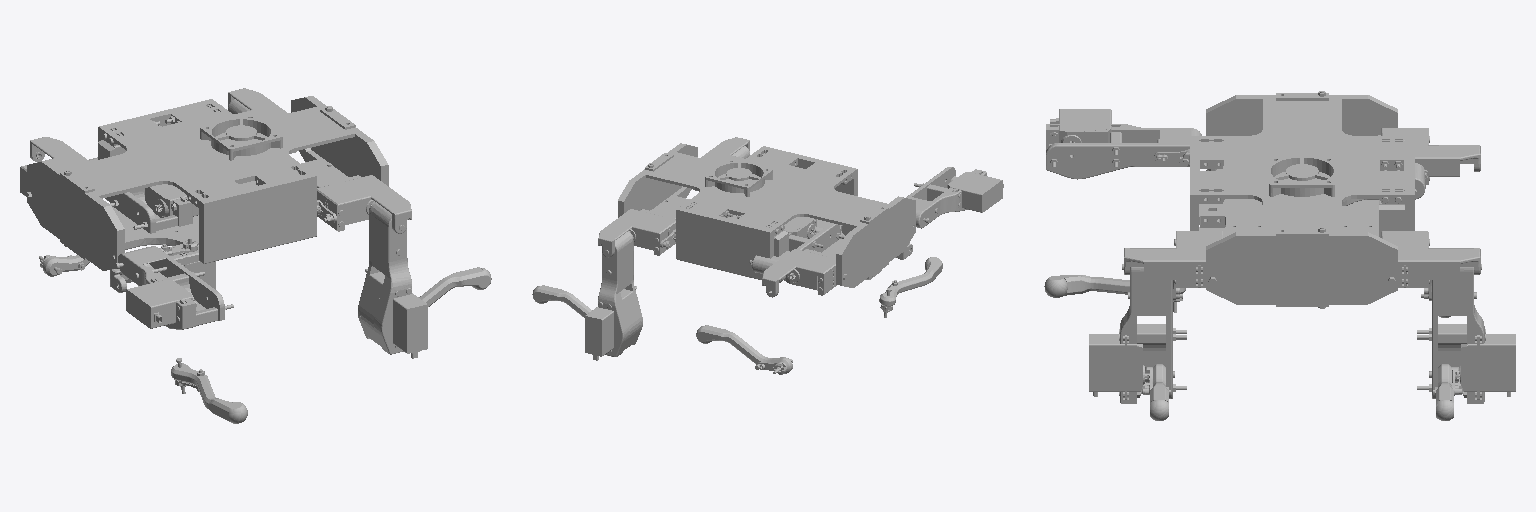
--- Render facts (derived) ---
3 views of the same robot in one strip: view 1: azimuth 30°, elevation 25°; view 2: azimuth 150°, elevation 25°; view 3: azimuth 270°, elevation 25° (orthographic).
Model urd_robot_cuadrupedo_v5 with 14 links and 13 joints (12 revolute, 1 fixed), rooted at base_link, posed joints at zero except 4 at the middle of their limits (Motor9 = -1.71, Motor10 = -1.71, Motor11 = -1.71, Motor12 = -1.71).
Links seen in each view (by area): view 1: base_robot, eslabon_femur_derecha_delantera, eslabon_femur_derecha_trazera, eslabon_coxa_derecha_delantera, eslabon_femur_izquierda_trazera, eslabon_tibia_derecha_trazera, eslabon_coxa_derecha_trazera, eslabon_coxa_izquierda_trasera, eslabon_tibia_derecha_delantera, eslabon_coxa_izquierda_delantera, eslabon_tibia_izquierda_trasera; view 2: base_robot, eslabon_femur_izquierda_delantera, eslabon_femur_derecha_trazera, eslabon_coxa_izquierda_trasera, eslabon_coxa_izquierda_delantera, eslabon_femur_izquierda_trazera, eslabon_tibia_izquierda_trasera, eslabon_tibia_derecha_trazera, eslabon_tibia_izquierda_delantera, eslabon_coxa_derecha_delantera; view 3: base_robot, eslabon_femur_derecha_trazera, eslabon_femur_derecha_delantera, eslabon_femur_izquierda_delantera, eslabon_coxa_izquierda_delantera, eslabon_coxa_derecha_delantera, eslabon_coxa_izquierda_trasera, eslabon_tibia_derecha_trazera, eslabon_tibia_derecha_delantera, eslabon_tibia_izquierda_delantera.
Link boxes in pixels (x1,y1,x2,y2): base_robot: (27, 96, 388, 270); eslabon_femur_derecha_delantera: (358, 201, 427, 358); eslabon_femur_derecha_trazera: (115, 246, 233, 329); eslabon_coxa_derecha_delantera: (317, 175, 411, 233); eslabon_femur_izquierda_trazera: (89, 157, 198, 233); eslabon_tibia_derecha_trazera: (171, 358, 247, 423); eslabon_coxa_derecha_trazera: (110, 238, 215, 292); eslabon_coxa_izquierda_trasera: (20, 137, 89, 199); eslabon_tibia_derecha_delantera: (419, 267, 491, 306); eslabon_coxa_izquierda_delantera: (228, 88, 296, 153); eslabon_tibia_izquierda_trasera: (39, 255, 89, 276); base_robot: (618, 143, 915, 287); eslabon_femur_izquierda_delantera: (585, 231, 642, 360); eslabon_femur_derecha_trazera: (906, 167, 1003, 228); eslabon_coxa_izquierda_trasera: (762, 249, 847, 297); eslabon_coxa_izquierda_delantera: (598, 209, 675, 257); eslabon_femur_izquierda_trazera: (749, 217, 845, 273); eslabon_tibia_izquierda_trasera: (696, 325, 792, 374); eslabon_tibia_derecha_trazera: (879, 257, 942, 317); eslabon_tibia_izquierda_delantera: (532, 285, 591, 317); eslabon_coxa_derecha_delantera: (693, 137, 749, 190); base_robot: (1190, 91, 1414, 308); eslabon_femur_derecha_trazera: (1046, 109, 1201, 179); eslabon_femur_derecha_delantera: (1089, 264, 1186, 403); eslabon_femur_izquierda_delantera: (1417, 264, 1515, 403); eslabon_coxa_izquierda_delantera: (1381, 231, 1480, 287); eslabon_coxa_derecha_delantera: (1124, 231, 1222, 287); eslabon_coxa_izquierda_trasera: (1378, 128, 1480, 184); eslabon_tibia_derecha_trazera: (1044, 275, 1185, 312); eslabon_tibia_derecha_delantera: (1142, 364, 1174, 420); eslabon_tibia_izquierda_delantera: (1429, 364, 1461, 420).
Size in the robot's own frame: 0.3598 by 0.3565 by 0.1689 metres.
Meshes: 13 distinct files referenced, 13 mesh visuals loaded (13 binary STL).

URDF robot description (urd_robot_cuadrupedo_v5):
<?xml version="1.0"?>
<!-- This URDF was automatically created by SolidWorks to URDF Exporter! Originally created by Stephen Brawner ([email redacted]) 
     Commit Version: 1.6.0-4-g7f85cfe  Build Version: 1.6.7995.38578
     For more information, please see http://wiki.ros.org/sw_urdf_exporter -->
<robot
  name="urd_robot_cuadrupedo_v5">
  <!-- Added compatibility root frame for RViz/tools that expect `base_link` -->
  <link name="base_link" />
  <joint name="base_link_to_base_robot" type="fixed">
    <parent link="base_link" />
    <child link="base_robot" />
    <origin xyz="0 0 0" rpy="0 0 0" />
  </joint>
  <link
    name="base_robot">
    <inertial>
      <origin
        xyz="0.00028092 -1.8375E-06 0.024004"
        rpy="0 0 0" />
      <mass
        value="0.62602" />
      <inertia
        ixx="0.0011232"
        ixy="9.7755E-08"
        ixz="6.3465E-08"
        iyy="0.0011039"
        iyz="-4.2277E-09"
        izz="0.0021064" />
    </inertial>
    <visual>
      <origin
        xyz="0 0 0"
        rpy="0 0 0" />
      <geometry>
        <mesh
          filename="model://urd_robot_cuadrupedo_v5/meshes/base_robot.STL" />
      </geometry>
      <material
        name="">
        <color
          rgba="0.75294 0.75294 0.75294 1" />
      </material>
    </visual>
    <collision>
      <origin
        xyz="0 0 0"
        rpy="0 0 0" />
      <geometry>
        <mesh
          filename="package://gazebo_simulation/models/urd_robot_cuadrupedo_v5/meshes/base_robot.STL" />
      </geometry>
    </collision>
  </link>
  <link
    name="eslabon_coxa_derecha_delantera">
    <inertial>
      <origin
        xyz="0.035369 -0.0090269 0.001623"
        rpy="0 0 0" />
      <mass
        value="0.076" />
      <inertia
        ixx="1.7467E-05"
        ixy="2.4535E-06"
        ixz="-3.2608E-07"
        iyy="1.4748E-05"
        iyz="4.9519E-07"
        izz="2.7861E-05" />
    </inertial>
    <visual>
      <origin
        xyz="0 0 0"
        rpy="0 0 0" />
      <geometry>
        <mesh
          filename="model://urd_robot_cuadrupedo_v5/meshes/eslabon_coxa_derecha_delantera.STL" />
      </geometry>
      <material
        name="">
        <color
          rgba="0.75294 0.75294 0.75294 1" />
      </material>
    </visual>
    <collision>
      <origin
        xyz="0 0 0"
        rpy="0 0 0" />
      <geometry>
        <mesh
          filename="package://gazebo_simulation/models/urd_robot_cuadrupedo_v5/meshes/eslabon_coxa_derecha_delantera.STL" />
      </geometry>
    </collision>
  </link>
  <joint
    name="Motor1"
    type="revolute">
    <origin
      xyz="0.0556 -0.0678 0.017"
      rpy="0 0 0" />
    <parent
      link="base_robot" />
    <child
      link="eslabon_coxa_derecha_delantera" />
    <axis
      xyz="1 0 0" />
    <limit
      lower="-1.5708" upper="1.5708" effort="10" velocity="2" />
  </joint>
  <link
    name="eslabon_femur_derecha_delantera">
    <inertial>
      <origin
        xyz="-0.0024207 -0.037916 -0.062962"
        rpy="0 0 0" />
      <mass
        value="0.1022" />
      <inertia
        ixx="5.4793E-05"
        ixy="-1.9564E-07"
        ixz="-3.536E-06"
        iyy="4.8323E-05"
        iyz="-2.073E-06"
        izz="1.3118E-05" />
    </inertial>
    <visual>
      <origin
        xyz="0 0 0"
        rpy="0 0 0" />
      <geometry>
        <mesh
          filename="model://urd_robot_cuadrupedo_v5/meshes/eslabon_femur_derecha_delantera.STL" />
      </geometry>
      <material
        name="">
        <color
          rgba="0.75294 0.75294 0.75294 1" />
      </material>
    </visual>
    <collision>
      <origin
        xyz="0 0 0"
        rpy="0 0 0" />
      <geometry>
        <mesh
          filename="package://gazebo_simulation/models/urd_robot_cuadrupedo_v5/meshes/eslabon_femur_derecha_delantera.STL" />
      </geometry>
    </collision>
  </link>
  <joint
    name="Motor5"
    type="revolute">
    <origin
      xyz="0.0467 -0.0165 0.0002"
      rpy="0 0 0" />
    <parent
      link="eslabon_coxa_derecha_delantera" />
    <child
      link="eslabon_femur_derecha_delantera" />
    <axis
      xyz="0 1 0" />
    <limit
      lower="-1.885" upper="1.0472" effort="10" velocity="2" />
  </joint>
  <link
    name="eslabon_tibia_derecha_delantera">
    <inertial>
      <origin
        xyz="-0.00052387 -0.014256 -0.033591"
        rpy="0 0 0" />
      <mass
        value="0.02333" />
      <inertia
        ixx="1.0939E-05"
        ixy="3.5897E-09"
        ixz="8.1426E-07"
        iyy="1.094E-05"
        iyz="1.3416E-08"
        izz="7.9923E-07" />
    </inertial>
    <visual>
      <origin
        xyz="0 0 0"
        rpy="0 0 0" />
      <geometry>
        <mesh
          filename="model://urd_robot_cuadrupedo_v5/meshes/eslabon_tibia_derecha_delantera.STL" />
      </geometry>
      <material
        name="">
        <color
          rgba="0.75294 0.75294 0.75294 1" />
      </material>
    </visual>
    <collision>
      <origin
        xyz="0 0 0"
        rpy="0 0 0" />
      <geometry>
        <mesh
          filename="package://gazebo_simulation/models/urd_robot_cuadrupedo_v5/meshes/eslabon_tibia_derecha_delantera.STL" />
      </geometry>
    </collision>
  </link>
  <joint
    name="Motor9"
    type="revolute">
    <origin
      xyz="0 -0.0118 -0.09"
      rpy="0 0 0" />
    <parent
      link="eslabon_femur_derecha_delantera" />
    <child
      link="eslabon_tibia_derecha_delantera" />
    <axis
      xyz="0 1 0" />
    <limit
      lower="-3.0019" upper="-0.4189" effort="10" velocity="2"/>
  </joint>
  <link
    name="eslabon_coxa_derecha_trazera">
    <inertial>
      <origin
        xyz="-0.032487 -0.0090269 0.0016241"
        rpy="0 0 0" />
      <mass
        value="0.076" />
      <inertia
        ixx="1.7467E-05"
        ixy="2.4094E-06"
        ixz="-3.4746E-07"
        iyy="1.4778E-05"
        iyz="5.0366E-07"
        izz="2.7891E-05" />
    </inertial>
    <visual>
      <origin
        xyz="0 0 0"
        rpy="0 0 0" />
      <geometry>
        <mesh
          filename="package://gazebo_simulation/models/urd_robot_cuadrupedo_v5/meshes/eslabon_coxa_derecha_trazera.STL" />
      </geometry>
      <material
        name="">
        <color
          rgba="0.75294 0.75294 0.75294 1" />
      </material>
    </visual>
    <collision>
      <origin
        xyz="0 0 0"
        rpy="0 0 0" />
      <geometry>
        <mesh
          filename="package://gazebo_simulation/models/urd_robot_cuadrupedo_v5/meshes/eslabon_coxa_derecha_trazera.STL" />
      </geometry>
    </collision>
  </link>
  <joint
    name="Motor2"
    type="revolute">
    <origin
      xyz="-0.0556 -0.0678 0.017"
      rpy="0 0 0" />
    <parent
      link="base_robot" />
    <child
      link="eslabon_coxa_derecha_trazera" />
    <axis
      xyz="1 0 0" />
    <limit
      lower="-1.5708" upper="1.5708" effort="10" velocity="2" />
  </joint>
  <link
    name="eslabon_femur_derecha_trazera">
    <inertial>
      <origin
        xyz="-0.0024207 -0.037916 -0.062962"
        rpy="0 0 0" />
      <mass
        value="0.1022" />
      <inertia
        ixx="5.4793E-05"
        ixy="-1.9564E-07"
        ixz="-3.536E-06"
        iyy="4.8323E-05"
        iyz="-2.073E-06"
        izz="1.3118E-05" />
    </inertial>
    <visual>
      <origin
        xyz="0 0 0"
        rpy="0 0 0" />
      <geometry>
        <mesh
          filename="package://gazebo_simulation/models/urd_robot_cuadrupedo_v5/meshes/eslabon_femur_derecha_trazera.STL" />
      </geometry>
      <material
        name="">
        <color
          rgba="0.75294 0.75294 0.75294 1" />
      </material>
    </visual>
    <collision>
      <origin
        xyz="0 0 0"
        rpy="0 0 0" />
      <geometry>
        <mesh
          filename="package://gazebo_simulation/models/urd_robot_cuadrupedo_v5/meshes/eslabon_femur_derecha_trazera.STL" />
      </geometry>
    </collision>
  </link>
  <joint
    name="Motor6"
    type="revolute">
    <origin
      xyz="-0.0267 -0.0165 0.0002"
      rpy="0 0 0" />
    <parent
      link="eslabon_coxa_derecha_trazera" />
    <child
      link="eslabon_femur_derecha_trazera" />
    <axis
      xyz="0 1 0" />
    <limit
      lower="-1.885" upper="1.0472" effort="10" velocity="2"/>
  </joint>
  <link
    name="eslabon_tibia_derecha_trazera">
    <inertial>
      <origin
        xyz="-0.00052387 -0.014256 -0.033591"
        rpy="0 0 0" />
      <mass
        value="0.02333" />
      <inertia
        ixx="1.0939E-05"
        ixy="3.5897E-09"
        ixz="8.1426E-07"
        iyy="1.094E-05"
        iyz="1.3416E-08"
        izz="7.9923E-07" />
    </inertial>
    <visual>
      <origin
        xyz="0 0 0"
        rpy="0 0 0" />
      <geometry>
        <mesh
          filename="package://gazebo_simulation/models/urd_robot_cuadrupedo_v5/meshes/eslabon_tibia_derecha_trazera.STL" />
      </geometry>
      <material
        name="">
        <color
          rgba="0.75294 0.75294 0.75294 1" />
      </material>
    </visual>
    <collision>
      <origin
        xyz="0 0 0"
        rpy="0 0 0" />
      <geometry>
        <mesh
          filename="package://gazebo_simulation/models/urd_robot_cuadrupedo_v5/meshes/eslabon_tibia_derecha_trazera.STL" />
      </geometry>
    </collision>
  </link>
  <joint
    name="Motor10"
    type="revolute">
    <origin
      xyz="0 -0.0118 -0.09"
      rpy="0 0 0" />
    <parent
      link="eslabon_femur_derecha_trazera" />
    <child
      link="eslabon_tibia_derecha_trazera" />
    <axis
      xyz="0 1 0" />
    <limit
      lower="-3.0019" upper="-0.4189" effort="10" velocity="2" />
  </joint>
  <link
    name="eslabon_coxa_izquierda_delantera">
    <inertial>
      <origin
        xyz="0.035374 0.0090266 0.001627"
        rpy="0 0 0" />
      <mass
        value="0.075981" />
      <inertia
        ixx="1.746E-05"
        ixy="-2.4484E-06"
        ixz="-3.1785E-07"
        iyy="1.4729E-05"
        iyz="-5.0055E-07"
        izz="2.7844E-05" />
    </inertial>
    <visual>
      <origin
        xyz="0 0 0"
        rpy="0 0 0" />
      <geometry>
        <mesh
          filename="package://gazebo_simulation/models/urd_robot_cuadrupedo_v5/meshes/eslabon_coxa_izquierda_delantera.STL" />
      </geometry>
      <material
        name="">
        <color
          rgba="0.75294 0.75294 0.75294 1" />
      </material>
    </visual>
    <collision>
      <origin
        xyz="0 0 0"
        rpy="0 0 0" />
      <geometry>
        <mesh
          filename="package://gazebo_simulation/models/urd_robot_cuadrupedo_v5/meshes/eslabon_coxa_izquierda_delantera.STL" />
      </geometry>
    </collision>
  </link>
  <joint
    name="Motor3"
    type="revolute">
    <origin
      xyz="0.0556 0.0678 0.017"
      rpy="0 0 0" />
    <parent
      link="base_robot" />
    <child
      link="eslabon_coxa_izquierda_delantera" />
    <axis
      xyz="1 0 0" />
    <limit
      lower="-1.5708" upper="1.5708" effort="10" velocity="2"/>
  </joint>
  <link
    name="eslabon_femur_izquierda_delantera">
    <inertial>
      <origin
        xyz="-0.0024214 0.037916 -0.062962"
        rpy="0 0 0" />
      <mass
        value="0.1022" />
      <inertia
        ixx="5.4793E-05"
        ixy="1.9572E-07"
        ixz="-3.5447E-06"
        iyy="4.8323E-05"
        iyz="2.073E-06"
        izz="1.3118E-05" />
    </inertial>
    <visual>
      <origin
        xyz="0 0 0"
        rpy="0 0 0" />
      <geometry>
        <mesh
          filename="package://gazebo_simulation/models/urd_robot_cuadrupedo_v5/meshes/eslabon_femur_izquierda_delantera.STL" />
      </geometry>
      <material
        name="">
        <color
          rgba="0.75294 0.75294 0.75294 1" />
      </material>
    </visual>
    <collision>
      <origin
        xyz="0 0 0"
        rpy="0 0 0" />
      <geometry>
        <mesh
          filename="package://gazebo_simulation/models/urd_robot_cuadrupedo_v5/meshes/eslabon_femur_izquierda_delantera.STL" />
      </geometry>
    </collision>
  </link>
  <joint
    name="Motor7"
    type="revolute">
    <origin
      xyz="0.0467 0.0165 0.0002"
      rpy="0 0 0" />
    <parent
      link="eslabon_coxa_izquierda_delantera" />
    <child
      link="eslabon_femur_izquierda_delantera" />
    <axis
      xyz="0 1 0" />
    <limit
      lower="-1.885" upper="1.0472" effort="10" velocity="2" />
  </joint>
  <link
    name="eslabon_tibia_izquierda_delantera">
    <inertial>
      <origin
        xyz="-0.00052045 0.014256 -0.033592"
        rpy="0 0 0" />
      <mass
        value="0.02333" />
      <inertia
        ixx="1.0943E-05"
        ixy="-3.601E-09"
        ixz="8.2159E-07"
        iyy="1.094E-05"
        iyz="-1.3419E-08"
        izz="7.95E-07" />
    </inertial>
    <visual>
      <origin
        xyz="0 0 0"
        rpy="0 0 0" />
      <geometry>
        <mesh
          filename="package://gazebo_simulation/models/urd_robot_cuadrupedo_v5/meshes/eslabon_tibia_izquierda_delantera.STL" />
      </geometry>
      <material
        name="">
        <color
          rgba="0.75294 0.75294 0.75294 1" />
      </material>
    </visual>
    <collision>
      <origin
        xyz="0 0 0"
        rpy="0 0 0" />
      <geometry>
        <mesh
          filename="package://gazebo_simulation/models/urd_robot_cuadrupedo_v5/meshes/eslabon_tibia_izquierda_delantera.STL" />
      </geometry>
    </collision>
  </link>
  <joint
    name="Motor11"
    type="revolute">
    <origin
      xyz="0 0.0118 -0.09"
      rpy="0 0 0" />
    <parent
      link="eslabon_femur_izquierda_delantera" />
    <child
      link="eslabon_tibia_izquierda_delantera" />
    <axis
      xyz="0 1 0" />
    <limit
      lower="-3.0019" upper="-0.4189" effort="10" velocity="2" />
  </joint>
  <link
    name="eslabon_coxa_izquierda_trasera">
    <inertial>
      <origin
        xyz="-0.032487 0.0090269 0.0016228"
        rpy="0 0 0" />
      <mass
        value="0.076" />
      <inertia
        ixx="1.7466E-05"
        ixy="-2.4094E-06"
        ixz="-3.4767E-07"
        iyy="1.4778E-05"
        iyz="-4.9508E-07"
        izz="2.7891E-05" />
    </inertial>
    <visual>
      <origin
        xyz="0 0 0"
        rpy="0 0 0" />
      <geometry>
        <mesh
          filename="package://gazebo_simulation/models/urd_robot_cuadrupedo_v5/meshes/eslabon_coxa_izquierda_trasera.STL" />
      </geometry>
      <material
        name="">
        <color
          rgba="0.75294 0.75294 0.75294 1" />
      </material>
    </visual>
    <collision>
      <origin
        xyz="0 0 0"
        rpy="0 0 0" />
      <geometry>
        <mesh
          filename="package://gazebo_simulation/models/urd_robot_cuadrupedo_v5/meshes/eslabon_coxa_izquierda_trasera.STL" />
      </geometry>
    </collision>
  </link>
  <joint
    name="Motor4"
    type="revolute">
    <origin
      xyz="-0.0556 0.0678 0.017"
      rpy="0 0 0" />
    <parent
      link="base_robot" />
    <child
      link="eslabon_coxa_izquierda_trasera" />
    <axis
      xyz="1 0 0" />
    <limit
      lower="-1.5708" upper="1.5708" effort="10" velocity="2" />
  </joint>
  <link
    name="eslabon_femur_izquierda_trazera">
    <inertial>
      <origin
        xyz="-0.0024214 0.037916 -0.062962"
        rpy="0 0 0" />
      <mass
        value="0.1022" />
      <inertia
        ixx="5.4793E-05"
        ixy="1.9572E-07"
        ixz="-3.5447E-06"
        iyy="4.8323E-05"
        iyz="2.073E-06"
        izz="1.3118E-05" />
    </inertial>
    <visual>
      <origin
        xyz="0 0 0"
        rpy="0 0 0" />
      <geometry>
        <mesh
          filename="package://gazebo_simulation/models/urd_robot_cuadrupedo_v5/meshes/eslabon_femur_izquierda_trazera.STL" />
      </geometry>
      <material
        name="">
        <color
          rgba="0.75294 0.75294 0.75294 1" />
      </material>
    </visual>
    <collision>
      <origin
        xyz="0 0 0"
        rpy="0 0 0" />
      <geometry>
        <mesh
          filename="package://gazebo_simulation/models/urd_robot_cuadrupedo_v5/meshes/eslabon_femur_izquierda_trazera.STL" />
      </geometry>
    </collision>
  </link>
  <joint
    name="Motor8"
    type="revolute">
    <origin
      xyz="-0.0267 0.0165 0.0002"
      rpy="0 0 0" />
    <parent
      link="eslabon_coxa_izquierda_trasera" />
    <child
      link="eslabon_femur_izquierda_trazera" />
    <axis
      xyz="0 1 0" />
    <limit
      lower="-1.885" upper="1.0472" effort="10" velocity="2" />
  </joint>
  <link
    name="eslabon_tibia_izquierda_trasera">
    <inertial>
      <origin
        xyz="-0.00052045 0.014256 -0.033592"
        rpy="0 0 0" />
      <mass
        value="0.02333" />
      <inertia
        ixx="1.0943E-05"
        ixy="-3.601E-09"
        ixz="8.2159E-07"
        iyy="1.094E-05"
        iyz="-1.3419E-08"
        izz="7.95E-07" />
    </inertial>
    <visual>
      <origin
        xyz="0 0 0"
        rpy="0 0 0" />
      <geometry>
        <mesh
          filename="package://gazebo_simulation/models/urd_robot_cuadrupedo_v5/meshes/eslabon_tibia_izquierda_trasera.STL" />
      </geometry>
      <material
        name="">
        <color
          rgba="0.75294 0.75294 0.75294 1" />
      </material>
    </visual>
    <collision>
      <origin
        xyz="0 0 0"
        rpy="0 0 0" />
      <geometry>
        <mesh
          filename="package://gazebo_simulation/models/urd_robot_cuadrupedo_v5/meshes/eslabon_tibia_izquierda_trasera.STL" />
      </geometry>
    </collision>
  </link>
  <joint
    name="Motor12"
    type="revolute">
    <origin
      xyz="0 0.0118 -0.09"
      rpy="0 0 0" />
    <parent
      link="eslabon_femur_izquierda_trazera" />
    <child
      link="eslabon_tibia_izquierda_trasera" />
    <axis
      xyz="0 1 0" />
    <limit
      lower="-3.0019" upper="-0.4189" effort="10" velocity="2"/>
  </joint>
  
  <transmission name="Motor1_trans">
    <type>transmission_interface/SimpleTransmission</type>
    <joint name="Motor1">
      <hardwareInterface>position</hardwareInterface>
    </joint>
    <actuator name="Motor1_motor">
      <mechanicalReduction>1</mechanicalReduction>
    </actuator>
  </transmission>

  <transmission name="Motor2_trans">
    <type>transmission_interface/SimpleTransmission</type>
    <joint name="Motor2">
      <hardwareInterface>position</hardwareInterface>
    </joint>
    <actuator name="Motor2_motor">
      <mechanicalReduction>1</mechanicalReduction>
    </actuator>
  </transmission>

  <transmission name="Motor3_trans">
    <type>transmission_interface/SimpleTransmission</type>
    <joint name="Motor3">
      <hardwareInterface>position</hardwareInterface>
    </joint>
    <actuator name="Motor3_motor">
      <mechanicalReduction>1</mechanicalReduction>
    </actuator>
  </transmission>

  <transmission name="Motor4_trans">
    <type>transmission_interface/SimpleTransmission</type>
    <joint name="Motor4">
      <hardwareInterface>position</hardwareInterface>
    </joint>
    <actuator name="Motor4_motor">
      <mechanicalReduction>1</mechanicalReduction>
    </actuator>
  </transmission>

  <transmission name="Motor5_trans">
    <type>transmission_interface/SimpleTransmission</type>
    <joint name="Motor5">
      <hardwareInterface>position</hardwareInterface>
    </joint>
    <actuator name="Motor5_motor">
      <mechanicalReduction>1</mechanicalReduction>
    </actuator>
  </transmission>

  <transmission name="Motor6_trans">
    <type>transmission_interface/SimpleTransmission</type>
    <joint name="Motor6">
      <hardwareInterface>position</hardwareInterface>
    </joint>
    <actuator name="Motor6_motor">
      <mechanicalReduction>1</mechanicalReduction>
    </actuator>
  </transmission>

  <transmission name="Motor7_trans">
    <type>transmission_interface/SimpleTransmission</type>
    <joint name="Motor7">
      <hardwareInterface>position</hardwareInterface>
    </joint>
    <actuator name="Motor7_motor">
      <mechanicalReduction>1</mechanicalReduction>
    </actuator>
  </transmission>

  <transmission name="Motor8_trans">
    <type>transmission_interface/SimpleTransmission</type>
    <joint name="Motor8">
      <hardwareInterface>position</hardwareInterface>
    </joint>
    <actuator name="Motor8_motor">
      <mechanicalReduction>1</mechanicalReduction>
    </actuator>
  </transmission>

  <transmission name="Motor9_trans">
    <type>transmission_interface/SimpleTransmission</type>
    <joint name="Motor9">
      <hardwareInterface>position</hardwareInterface>
    </joint>
    <actuator name="Motor9_motor">
      <mechanicalReduction>1</mechanicalReduction>
    </actuator>
  </transmission>

  <transmission name="Motor10_trans">
    <type>transmission_interface/SimpleTransmission</type>
    <joint name="Motor10">
      <hardwareInterface>position</hardwareInterface>
    </joint>
    <actuator name="Motor10_motor">
      <mechanicalReduction>1</mechanicalReduction>
    </actuator>
  </transmission>

  <transmission name="Motor11_trans">
    <type>transmission_interface/SimpleTransmission</type>
    <joint name="Motor11">
      <hardwareInterface>position</hardwareInterface>
    </joint>
    <actuator name="Motor11_motor">
      <mechanicalReduction>1</mechanicalReduction>
    </actuator>
  </transmission>

  <transmission name="Motor12_trans">
    <type>transmission_interface/SimpleTransmission</type>
    <joint name="Motor12">
      <hardwareInterface>position</hardwareInterface>
    </joint>
    <actuator name="Motor12_motor">
      <mechanicalReduction>1</mechanicalReduction>
    </actuator>
  </transmission>

  <ros2_control name="urd_robot_hw" type="system">
    <hardware>
      <plugin>gazebo_ros2_control/GazeboSystem</plugin>
      <param name="update_rate">50</param>
    </hardware>

    <!-- Define joints Motor1..Motor12 with position command + state interfaces -->
    <joint name="Motor1">
      <command_interfaces>
        <interface>position</interface>
      </command_interfaces>
      <state_interfaces>
        <interface>position</interface>
        <interface>velocity</interface>
      </state_interfaces>
    </joint>
    <joint name="Motor2">
      <command_interfaces>
        <interface>position</interface>
      </command_interfaces>
      <state_interfaces>
        <interface>position</interface>
        <interface>velocity</interface>
      </state_interfaces>
    </joint>
    <joint name="Motor3">
      <command_interfaces>
        <interface>position</interface>
      </command_interfaces>
      <state_interfaces>
        <interface>position</interface>
        <interface>velocity</interface>
      </state_interfaces>
    </joint>
    <joint name="Motor4">
      <command_interfaces>
        <interface>position</interface>
      </command_interfaces>
      <state_interfaces>
        <interface>position</interface>
        <interface>velocity</interface>
      </state_interfaces>
    </joint>
    <joint name="Motor5">
      <command_interfaces>
        <interface>position</interface>
      </command_interfaces>
      <state_interfaces>
        <interface>position</interface>
        <interface>velocity</interface>
      </state_interfaces>
    </joint>
    <joint name="Motor6">
      <command_interfaces>
        <interface>position</interface>
      </command_interfaces>
      <state_interfaces>
        <interface>position</interface>
        <interface>velocity</interface>
      </state_interfaces>
    </joint>
    <joint name="Motor7">
      <command_interfaces>
        <interface>position</interface>
      </command_interfaces>
      <state_interfaces>
        <interface>position</interface>
        <interface>velocity</interface>
      </state_interfaces>
    </joint>
    <joint name="Motor8">
      <command_interfaces>
        <interface>position</interface>
      </command_interfaces>
      <state_interfaces>
        <interface>position</interface>
        <interface>velocity</interface>
      </state_interfaces>
    </joint>
    <joint name="Motor9">
      <command_interfaces>
        <interface>position</interface>
      </command_interfaces>
      <state_interfaces>
        <interface>position</interface>
        <interface>velocity</interface>
      </state_interfaces>
    </joint>
    <joint name="Motor10">
      <command_interfaces>
        <interface>position</interface>
      </command_interfaces>
      <state_interfaces>
        <interface>position</interface>
        <interface>velocity</interface>
      </state_interfaces>
    </joint>
    <joint name="Motor11">
      <command_interfaces>
        <interface>position</interface>
      </command_interfaces>
      <state_interfaces>
        <interface>position</interface>
        <interface>velocity</interface>
      </state_interfaces>
    </joint>
    <joint name="Motor12">
      <command_interfaces>
        <interface>position</interface>
      </command_interfaces>
      <state_interfaces>
        <interface>position</interface>
        <interface>velocity</interface>
      </state_interfaces>
    </joint>
  </ros2_control>

  <gazebo>
    <plugin name="gazebo_ros2_control" filename="libgazebo_ros2_control.so"/>
  </gazebo>

</robot>
